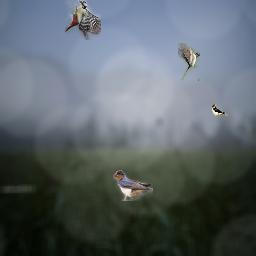Swallow: (113, 170, 153, 201), (178, 43, 200, 81), (212, 104, 228, 116)
Woodpecker: (65, 0, 101, 40)
